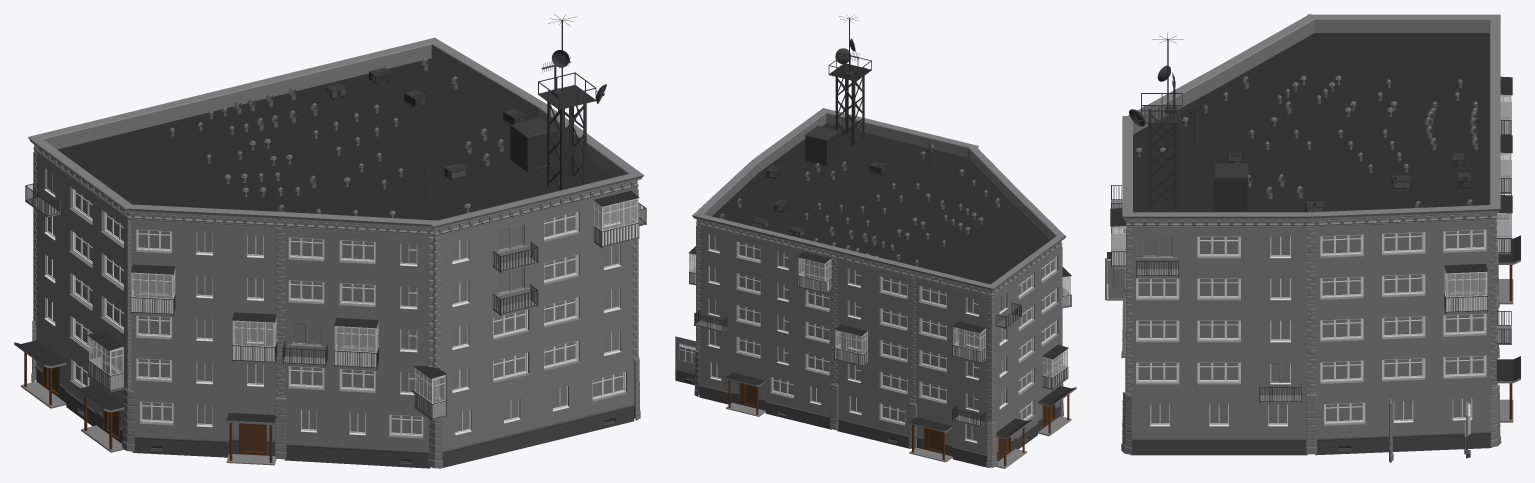
File: Building5_1.fbx
The picture shows the model from 3 angles, left to right: view 1: azimuth 30°, elevation 25°; view 2: azimuth 150°, elevation 25°; view 3: azimuth 270°, elevation 25°; orthographic projection. The views are drawn at different scales.
Parts seen in each view (by area): view 1: Building5_1; view 2: Building5_1; view 3: Building5_1.
Part boxes in pixels (left/top/right/bottom): Building5_1: left=14, top=14, right=646, bottom=468; Building5_1: left=675, top=14, right=1076, bottom=468; Building5_1: left=1105, top=14, right=1520, bottom=462.
Bounding box in the file's own units: 3403 × 2787 × 2691.
